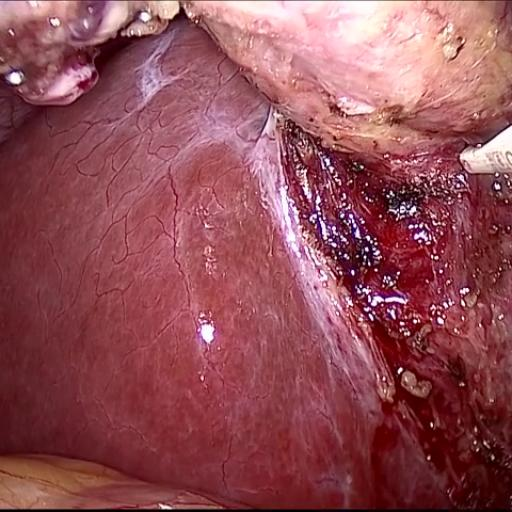Hook: (444, 100, 512, 204)
